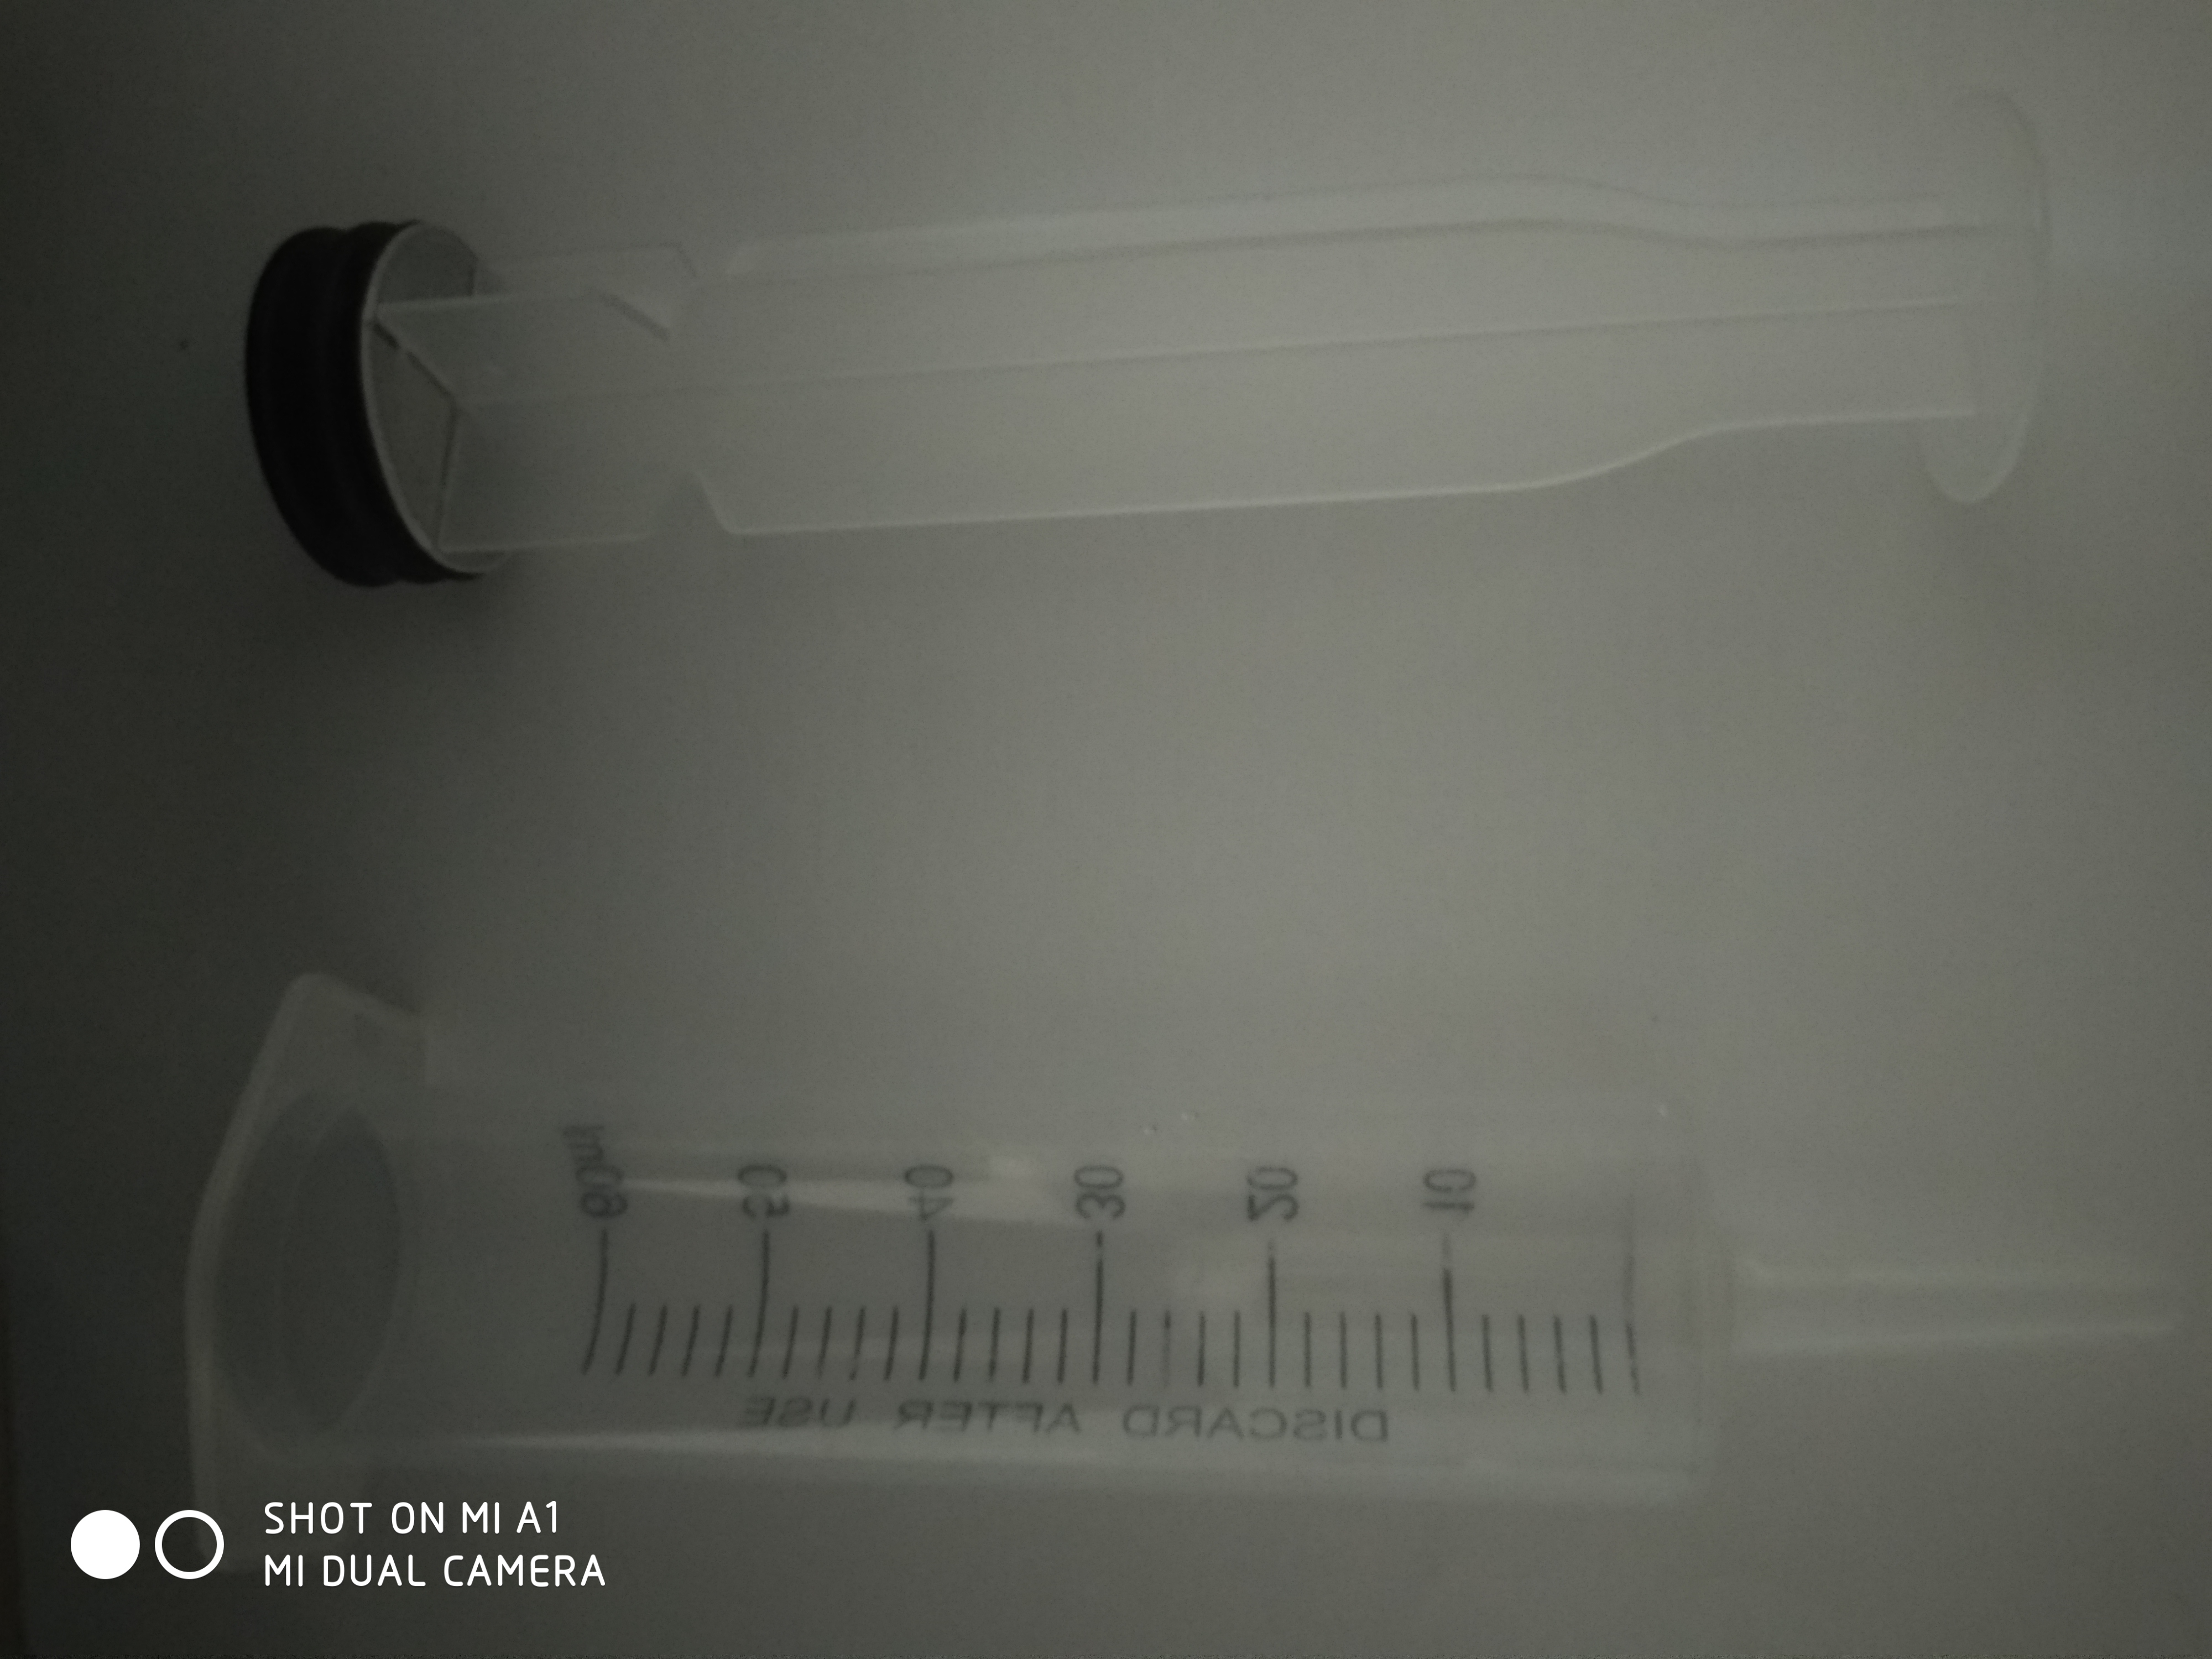plunger: (235, 91, 2081, 603)
syringe: (165, 955, 2195, 1582)
